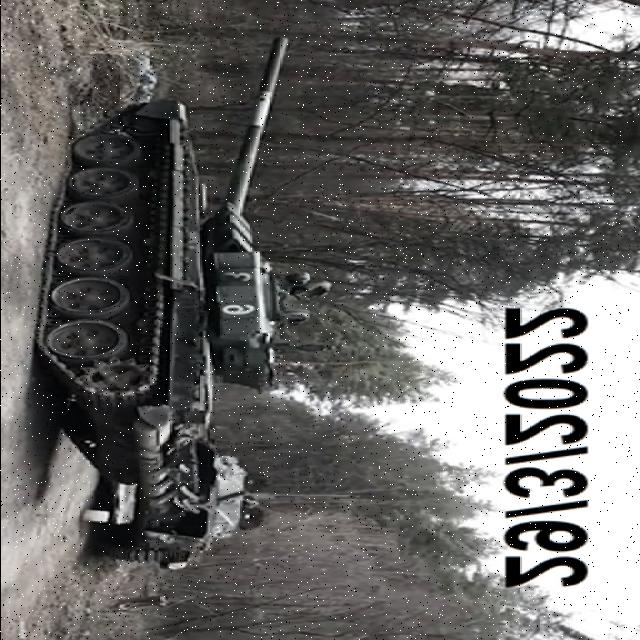APC-IFV: (98, 442, 260, 572)
TANK: (42, 34, 302, 510)
